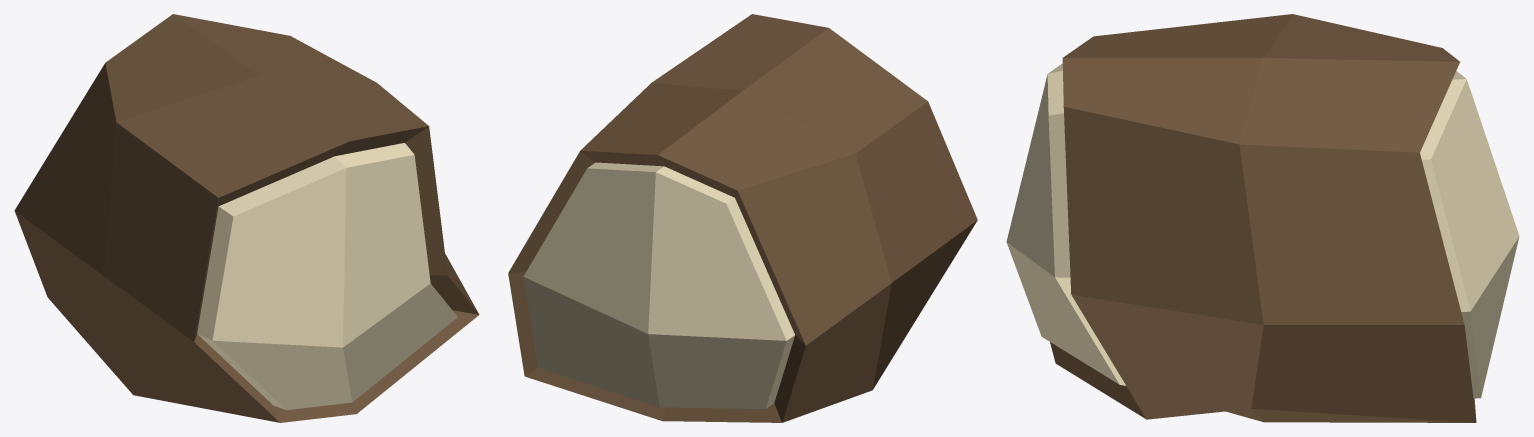
File: bread.fbx
3 views of the same model, side by side, from view 1: azimuth 30°, elevation 25°; view 2: azimuth 150°, elevation 25°; view 3: azimuth 270°, elevation 25° (orthographic). The views are drawn at different scales.
Parts seen in each view (by area): view 1: Cube; view 2: Cube; view 3: Cube.
Boxes of the visible parts, <box> form: Cube: <box>14,14,479,422</box>; Cube: <box>508,14,977,422</box>; Cube: <box>1006,14,1519,422</box>.
Bounding box in the file's own units: 76.14 × 73.4 × 93.67.
